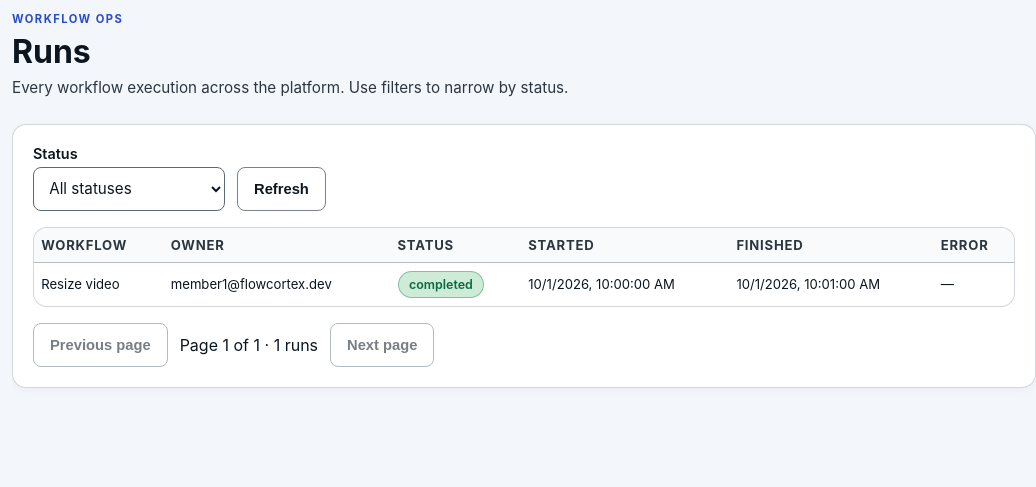
it: RunsPage › keeps the table it already showed, marked as earlier results, when the switch goes off
Expected: the table is shown, [34,228,1014,306]
Step 1. Click the button "Refresh" → (281, 189), box [237,167,326,211]
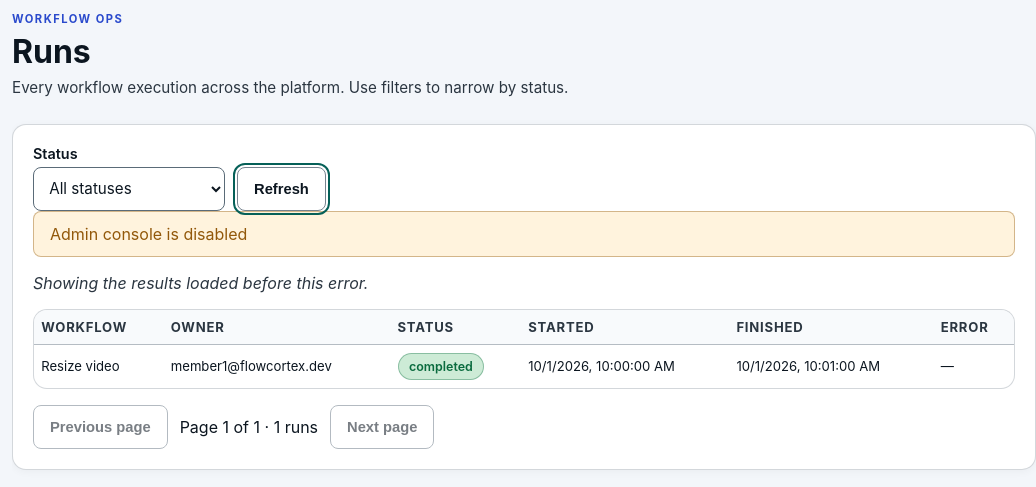
Expected: the table is shown, [34,310,1014,388]
Expected: the text "Admin console is disabled" is shown, [33,211,1015,257]
Expected: the text "Showing the results loaded before this error." is shown, [33,273,368,293]
